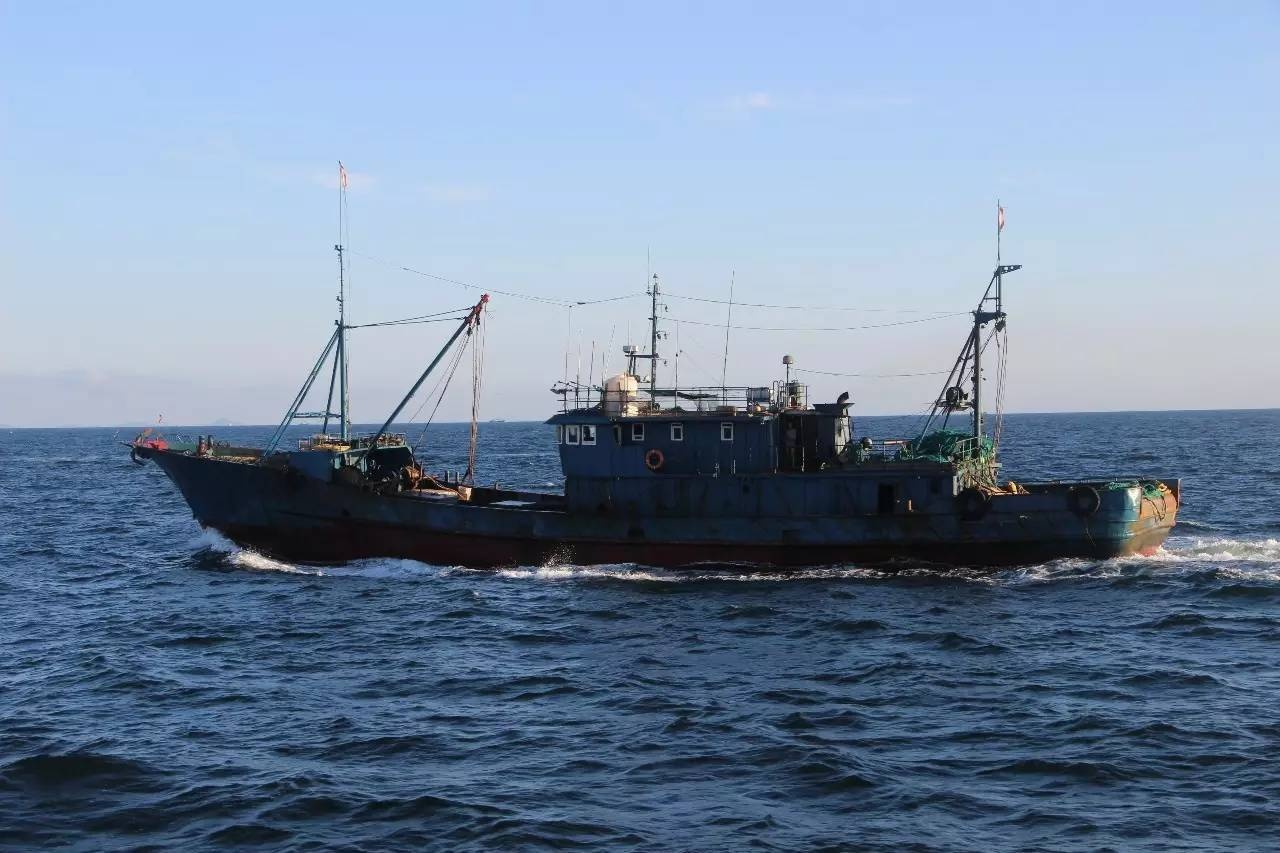airplane: (121, 184, 1179, 564)
